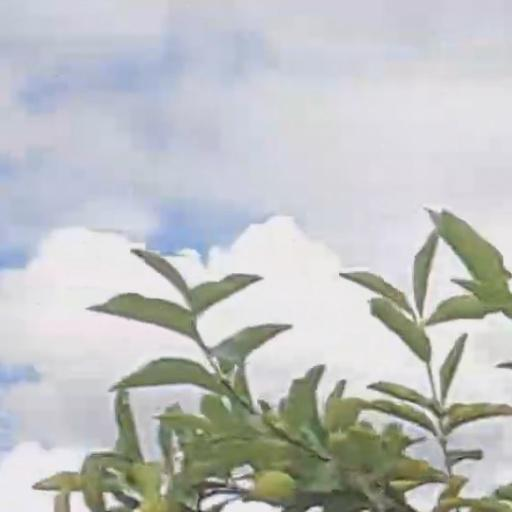acerola_verde: (253, 469, 292, 501)
